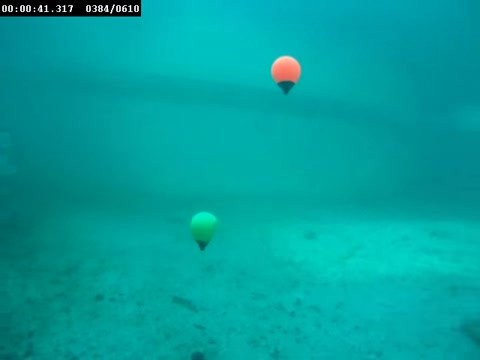buoy_green: (190, 212, 217, 252)
buoy_red: (268, 52, 303, 97)
